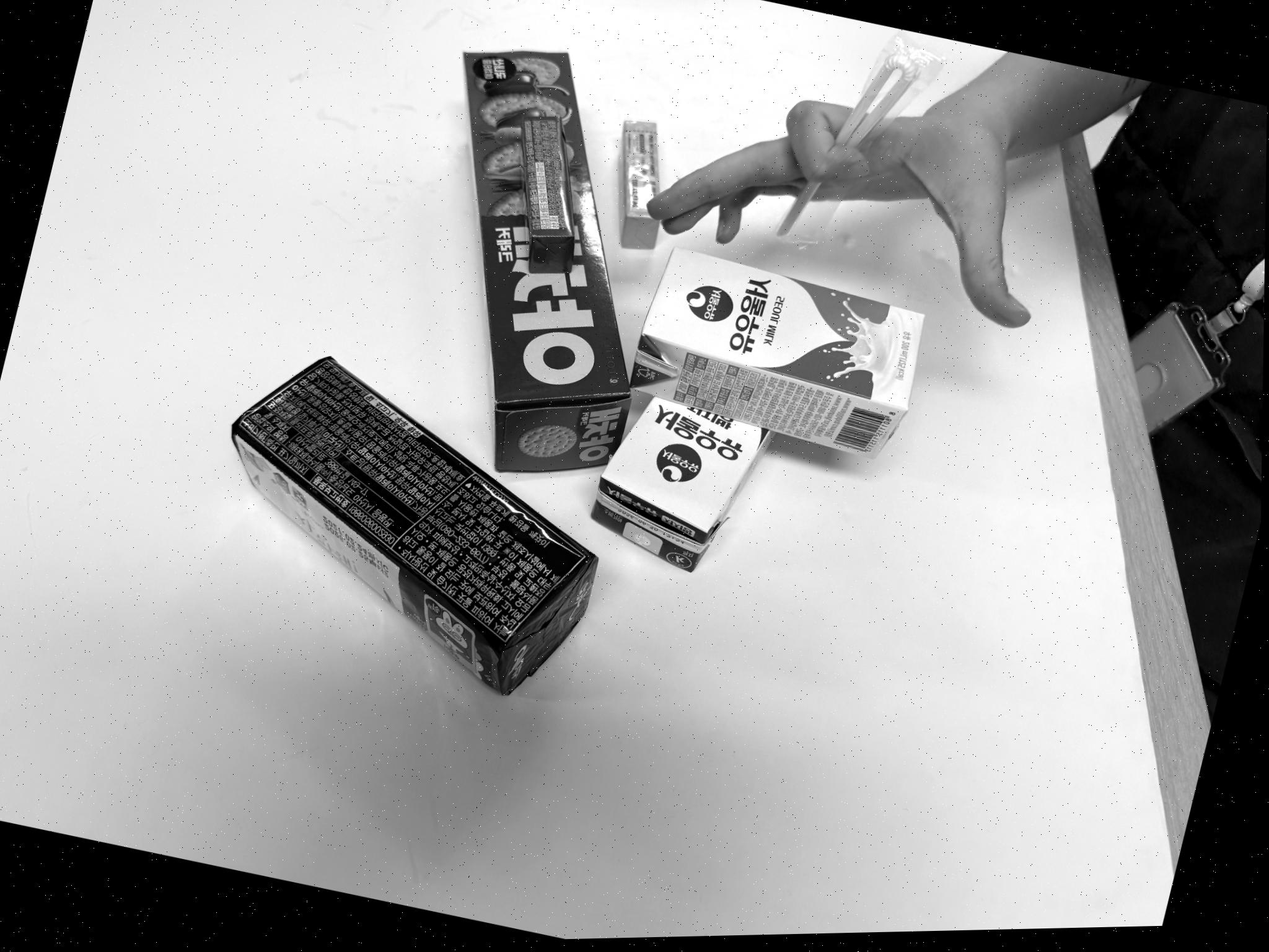cracker_ace: (232, 357, 597, 694)
cracker_vege: (462, 51, 630, 471)
gum_green: (522, 116, 580, 273)
gum_yellow: (621, 121, 660, 249)
milk_blue: (591, 397, 769, 571)
milk_green: (632, 249, 924, 456)
